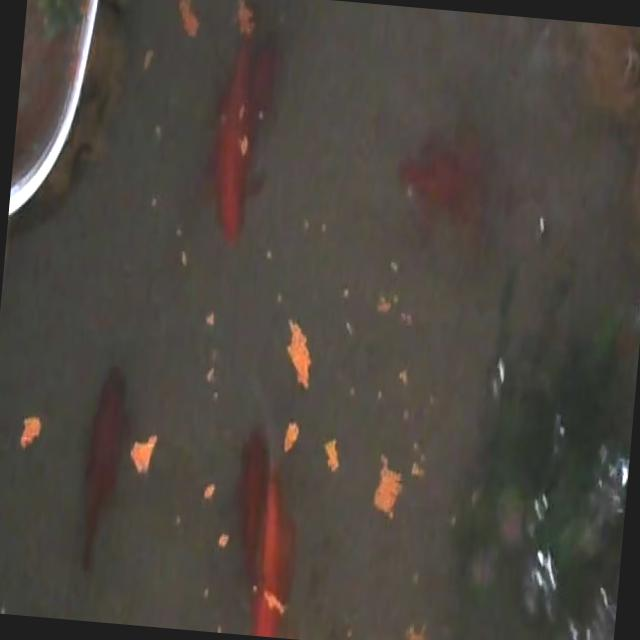fish: (204, 8, 282, 241), (75, 360, 136, 574), (391, 124, 495, 240), (248, 460, 304, 638), (228, 418, 274, 579)
